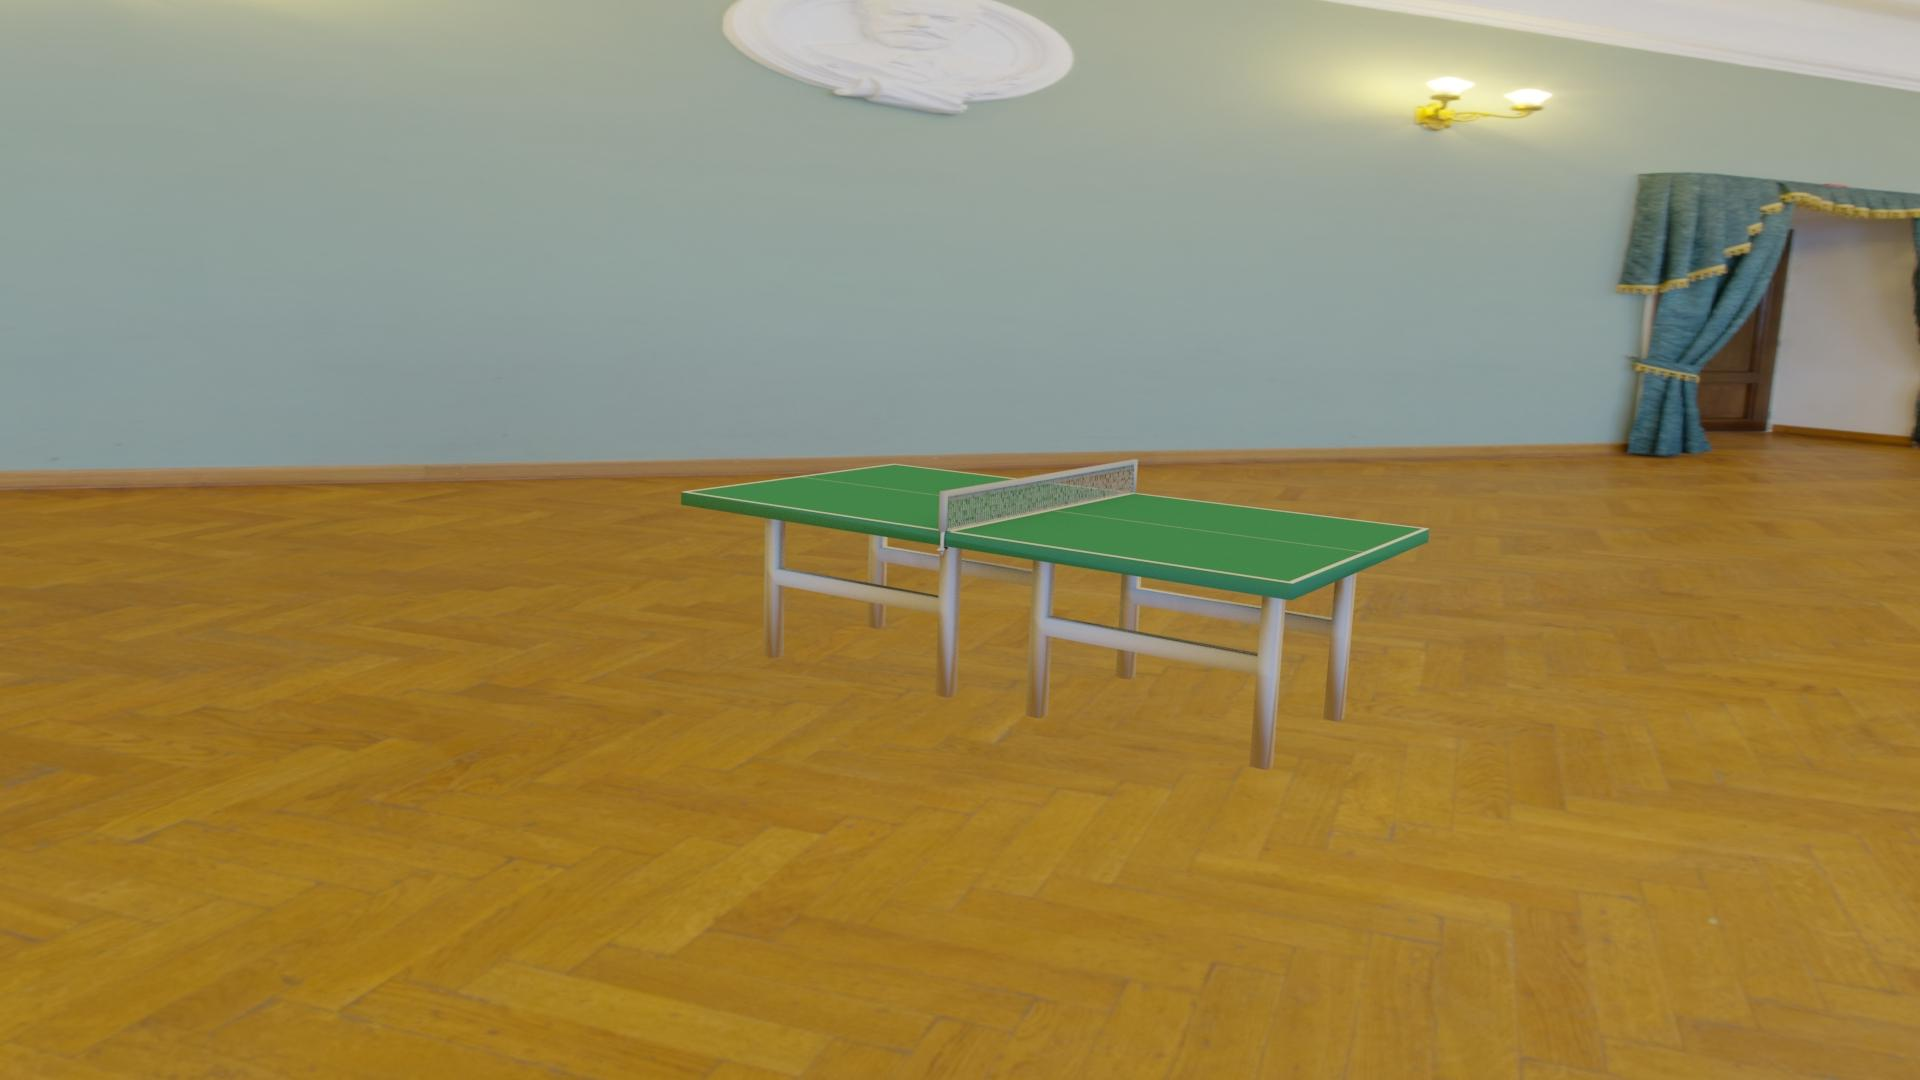table: (688, 464, 1423, 582)
